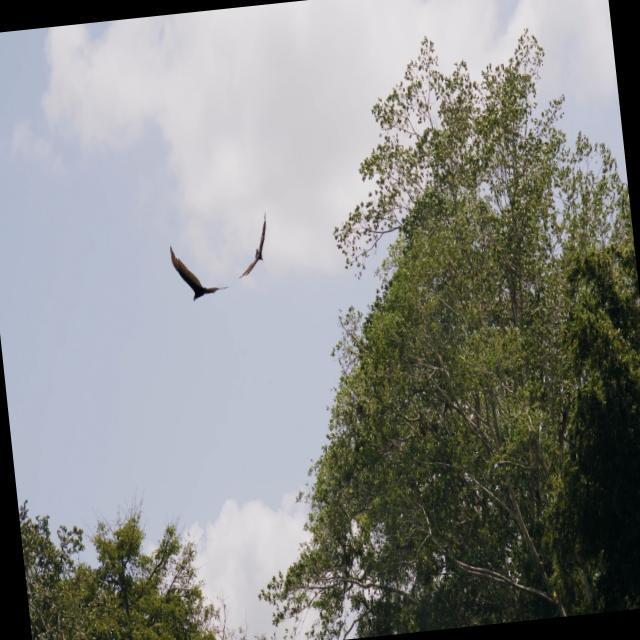bird: (169, 239, 232, 305), (232, 209, 273, 280)
